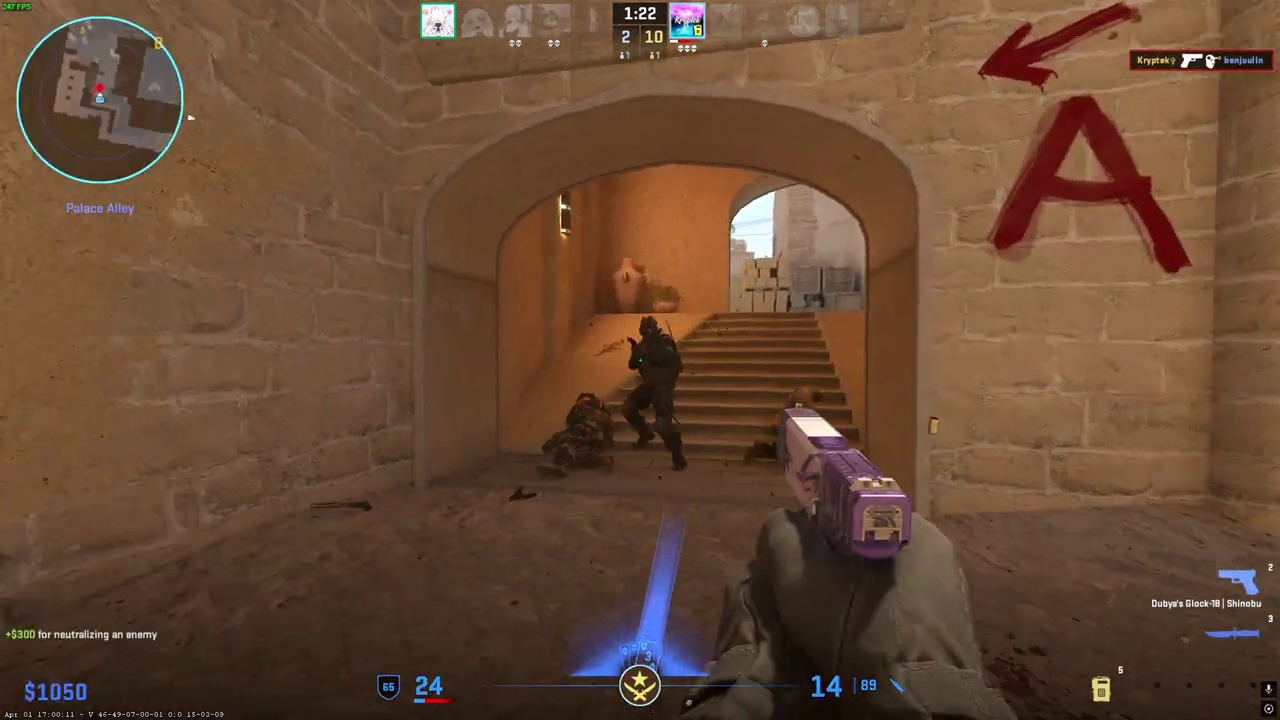CT: (620, 316, 687, 471)
